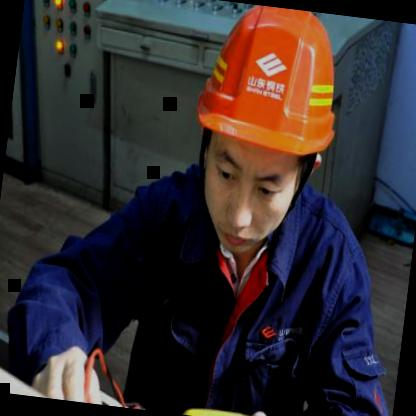helmet: (169, 0, 355, 278)
